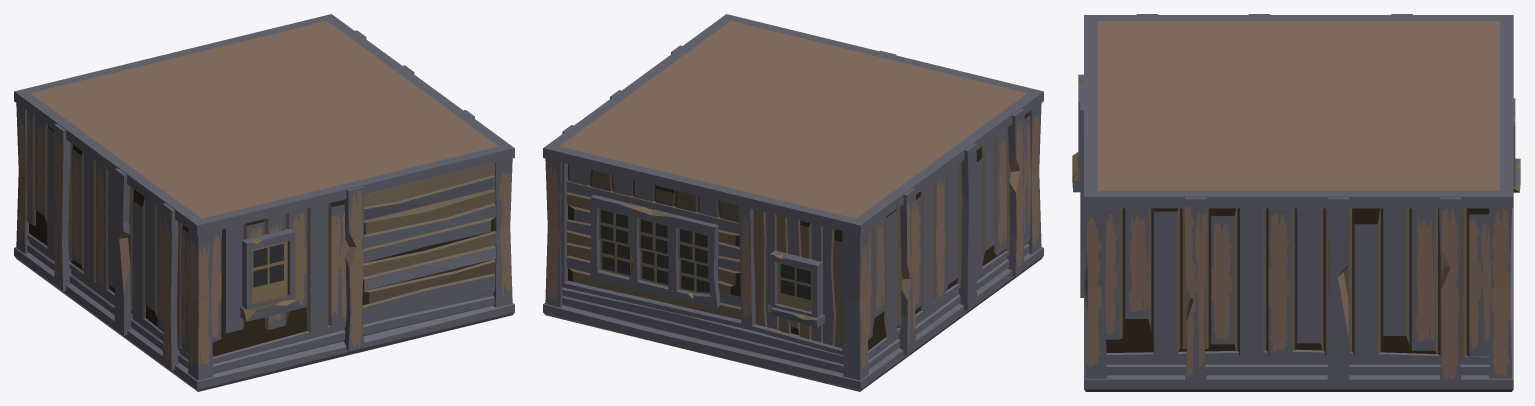
Rendered from SM_Bld_Shanty_Room_01.fbx.
The picture shows the model from 3 angles, left to right: view 1: azimuth 30°, elevation 25°; view 2: azimuth 150°, elevation 25°; view 3: azimuth 270°, elevation 25°; orthographic projection. The views are drawn at different scales.
Visible parts, largest first — view 1: SM_Bld_Shanty_Room_01; view 2: SM_Bld_Shanty_Room_01; view 3: SM_Bld_Shanty_Room_01.
Part boxes in pixels (x1,y1,x2,y2): SM_Bld_Shanty_Room_01: (14,14,514,391); SM_Bld_Shanty_Room_01: (543,14,1043,391); SM_Bld_Shanty_Room_01: (1072,14,1520,391).
Bounding box in the file's own units: 5.1 × 2.52 × 5.22.
